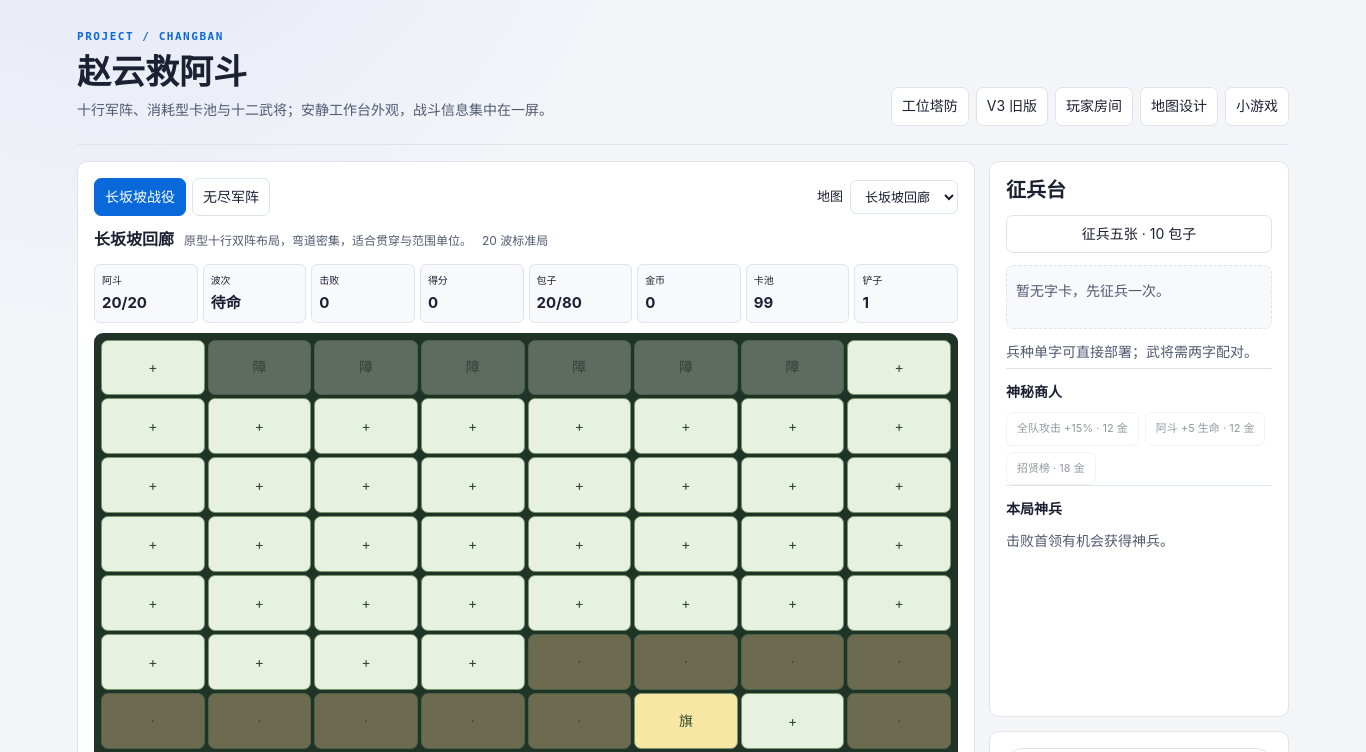
WordFrontV4Page › binds ranked play to V4 and deploys the guaranteed Zhao Yun pair
Step 1. Click the button "征兵五张 · 10 包子" → (1139, 234), box [1006,215,1272,253]
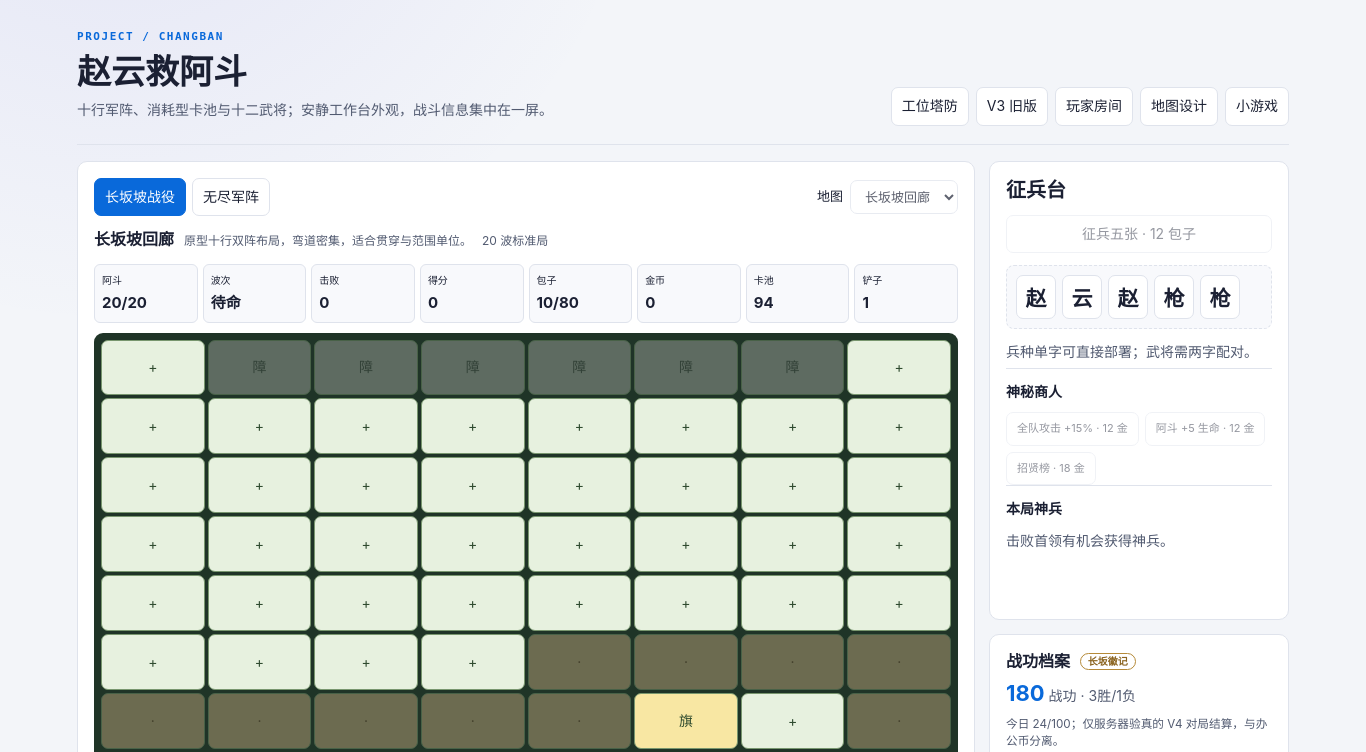
Step 2. Click the 1st button "赵" → (1036, 297), box [1016,275,1056,319]
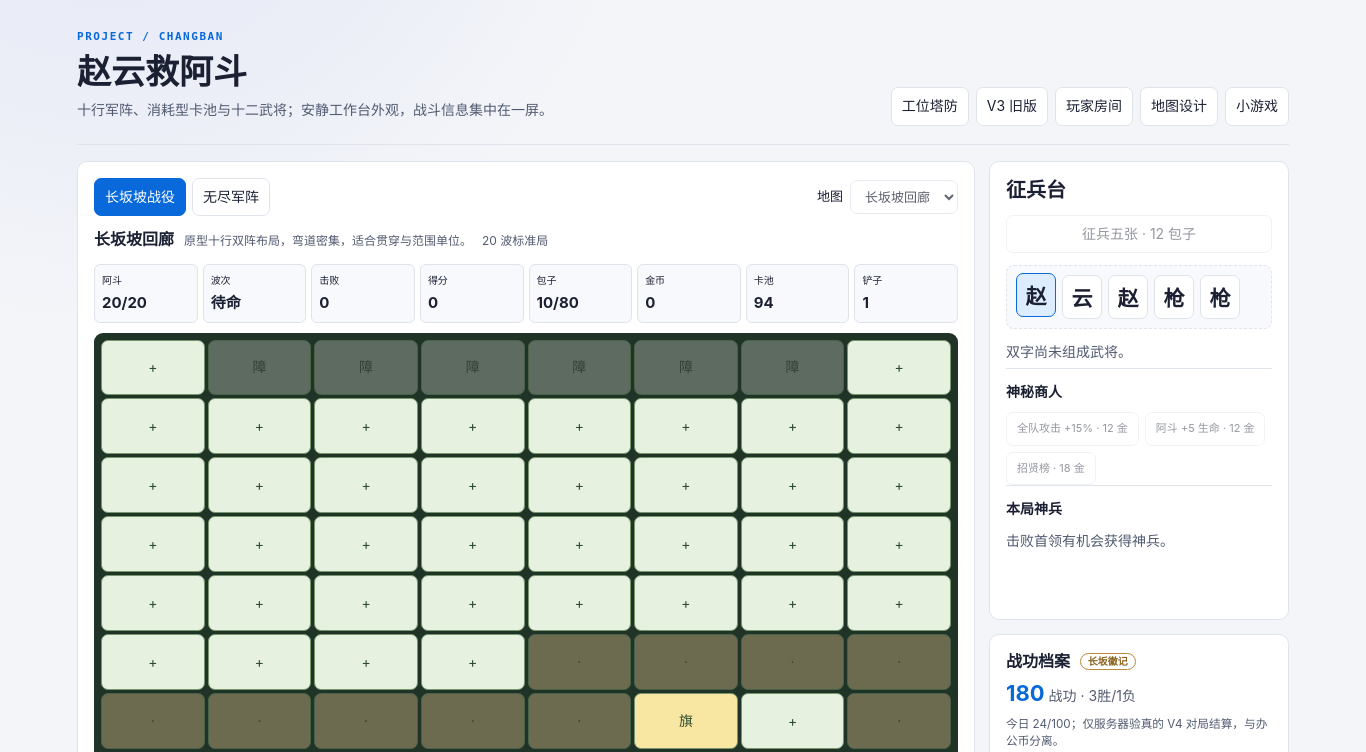
Step 3. Click the button "云" → (1082, 297), box [1062,275,1102,319]
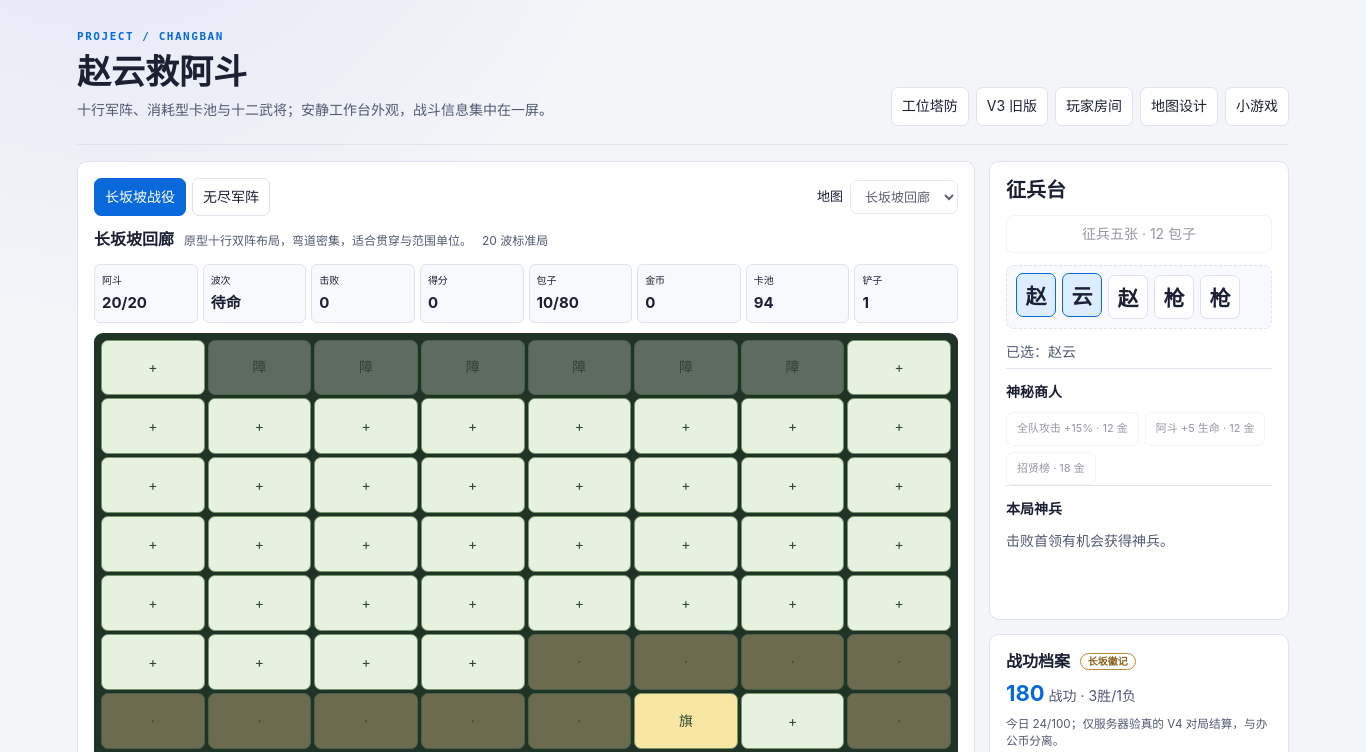
Step 4. Click the button named "1行1列，空地" → (153, 368), box [101,340,205,396]
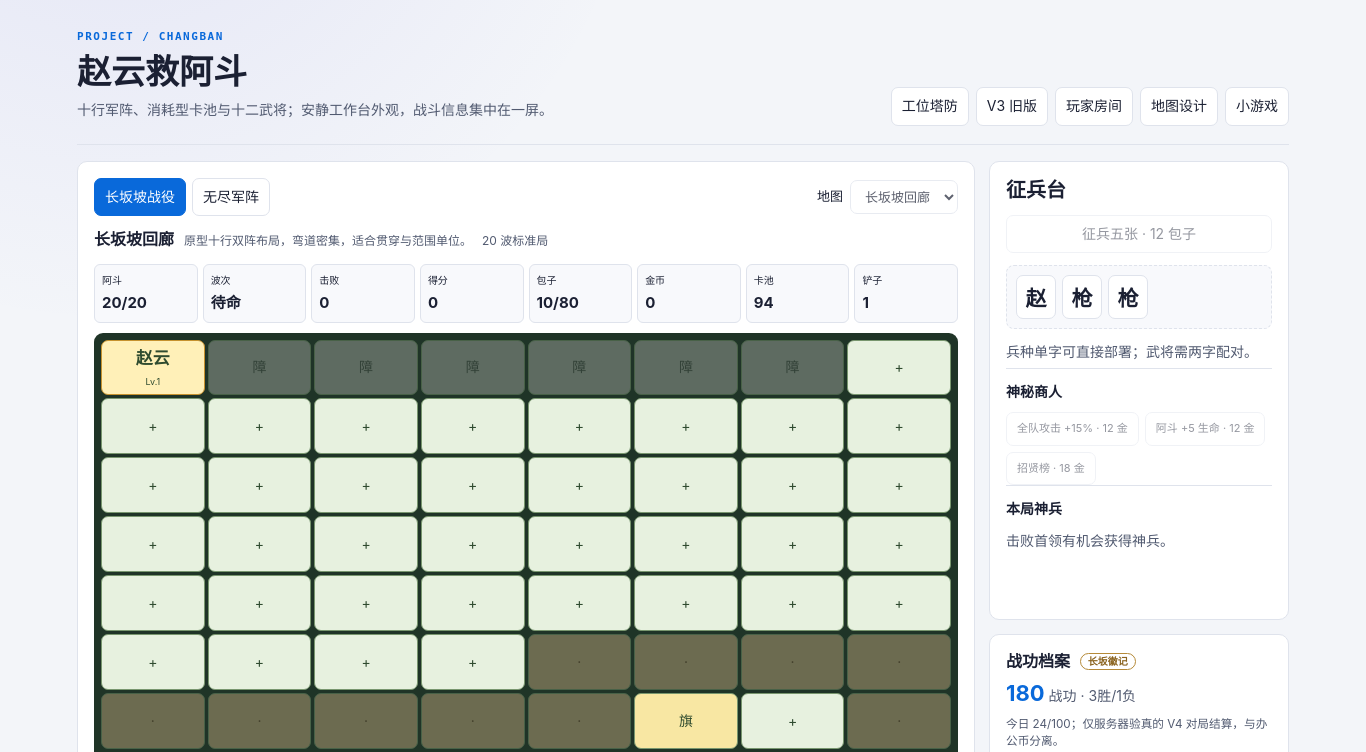
Expected: the button with aria-label "1行1列，赵云1级" is shown, [101,340,205,396]
